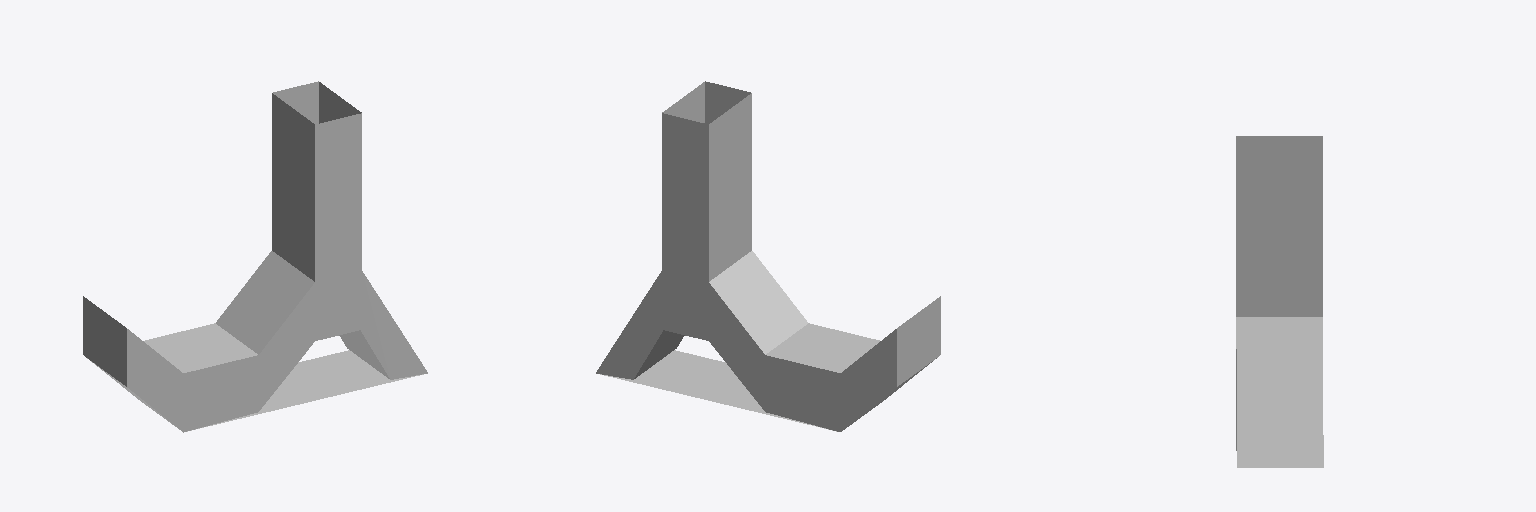
File: greece02.obj
The picture shows the model from 3 angles: view 1: azimuth 30°, elevation 25°; view 2: azimuth 150°, elevation 25°; view 3: azimuth 270°, elevation 25°; orthographic projection.
Parts seen in each view (by area): view 1: Cube.032_Cube.038; view 2: Cube.032_Cube.038; view 3: Cube.032_Cube.038.
Part boxes in pixels (x1,y1,x2,y2): Cube.032_Cube.038: (83,81,427,432); Cube.032_Cube.038: (596,81,940,431); Cube.032_Cube.038: (1236,136,1323,467).
Size of the model in its own units: 160 by 140 by 40.04.